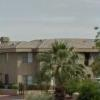Palm tree: (38, 37, 81, 100)
